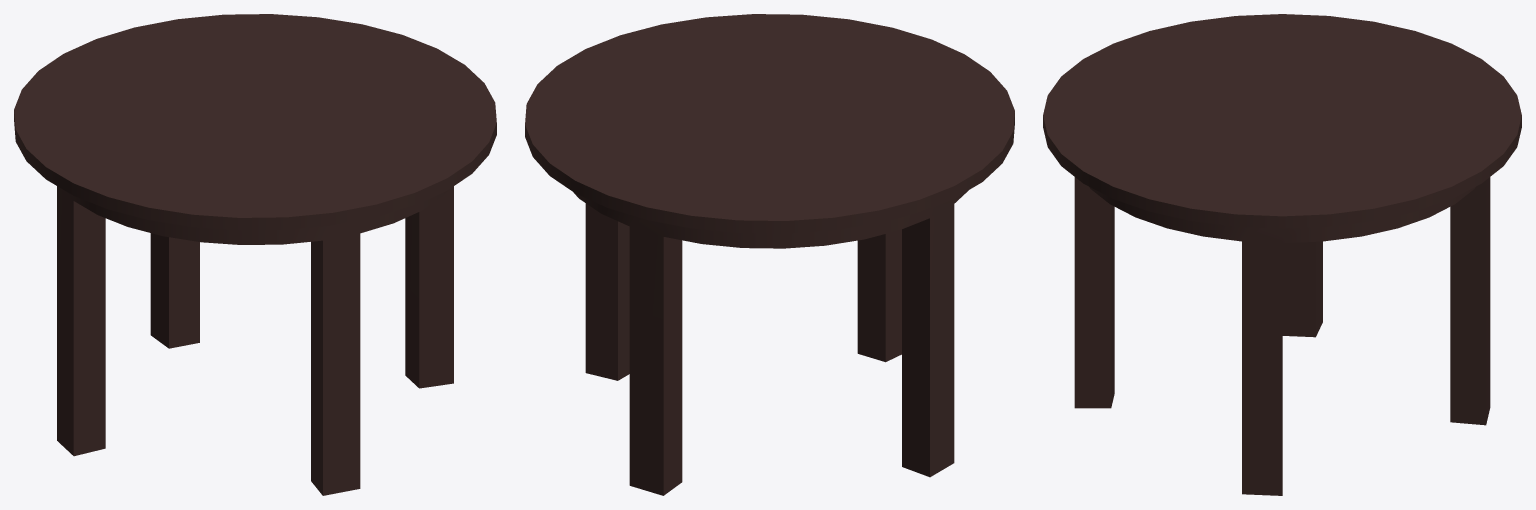
The model's file is TableRonde_12.fbx.
3 views of the same model, side by side, from view 1: azimuth 30°, elevation 25°; view 2: azimuth 150°, elevation 25°; view 3: azimuth 270°, elevation 25° (orthographic). The views are drawn at different scales.
Visible parts, largest first — view 1: pCylinder1773; view 2: pCylinder1773; view 3: pCylinder1773.
Part boxes in pixels (left/top/right/bottom): pCylinder1773: left=14, top=14, right=496, bottom=495; pCylinder1773: left=525, top=14, right=1014, bottom=495; pCylinder1773: left=1043, top=14, right=1521, bottom=495.
Size of the model in its own units: 45.25 by 30.55 by 45.25.
